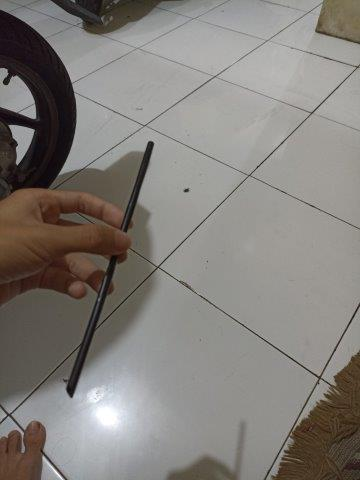sedotan: (68, 143, 154, 398)
